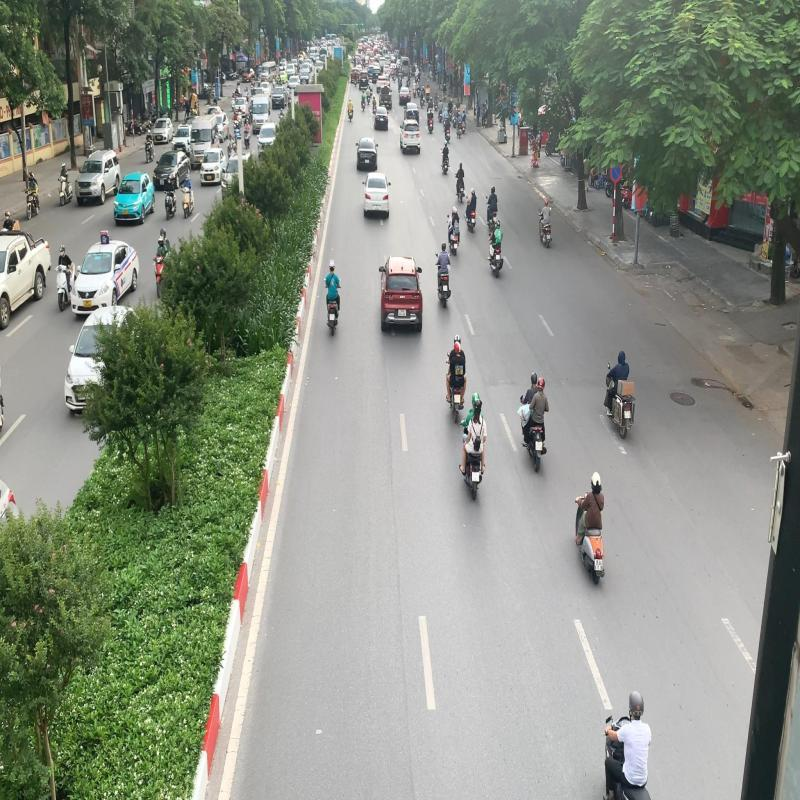helmet: (628, 690, 644, 716), (591, 470, 601, 486), (472, 392, 480, 408), (530, 372, 538, 385), (538, 377, 546, 390), (474, 398, 482, 409), (454, 341, 461, 352), (454, 334, 461, 344)
licenseplate: (603, 690, 652, 800), (594, 557, 604, 572), (472, 471, 480, 482), (534, 440, 542, 451), (454, 394, 461, 403)
motorcyclist: (574, 470, 606, 586), (516, 370, 550, 473), (459, 391, 488, 502), (445, 333, 467, 424)
